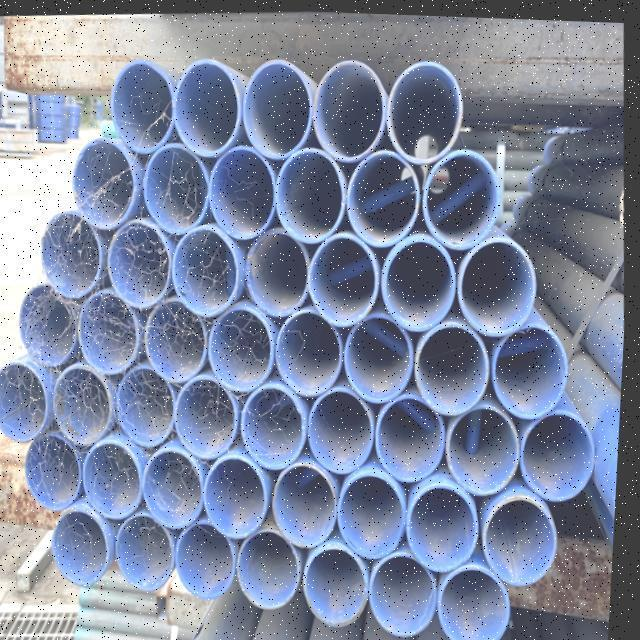pipe: (387, 56, 468, 160), (309, 55, 391, 157), (460, 232, 542, 332), (425, 142, 505, 244), (497, 318, 581, 413), (239, 57, 315, 158), (105, 59, 184, 153), (417, 318, 494, 412), (174, 57, 244, 159), (278, 146, 350, 245), (374, 396, 455, 483), (525, 403, 600, 496), (386, 231, 461, 323), (210, 144, 281, 240), (354, 147, 424, 244), (172, 226, 246, 317), (453, 402, 527, 492), (313, 226, 384, 319), (411, 478, 484, 567), (151, 296, 220, 389), (493, 498, 565, 585), (71, 137, 138, 230), (348, 313, 419, 400), (243, 382, 314, 468), (278, 311, 347, 399), (209, 309, 281, 392), (109, 218, 175, 308), (249, 221, 315, 311), (446, 559, 519, 640), (314, 387, 380, 476), (145, 144, 211, 232), (343, 470, 412, 554), (278, 460, 344, 546), (210, 450, 275, 537), (43, 210, 106, 299), (374, 554, 444, 634), (309, 544, 376, 625), (145, 443, 208, 528), (241, 528, 307, 607), (56, 361, 118, 445), (181, 377, 244, 458), (83, 289, 143, 374), (177, 516, 238, 598), (89, 435, 149, 517), (120, 510, 181, 590), (22, 287, 80, 371), (120, 365, 180, 446), (31, 430, 88, 513), (0, 358, 54, 445), (56, 510, 114, 588)
